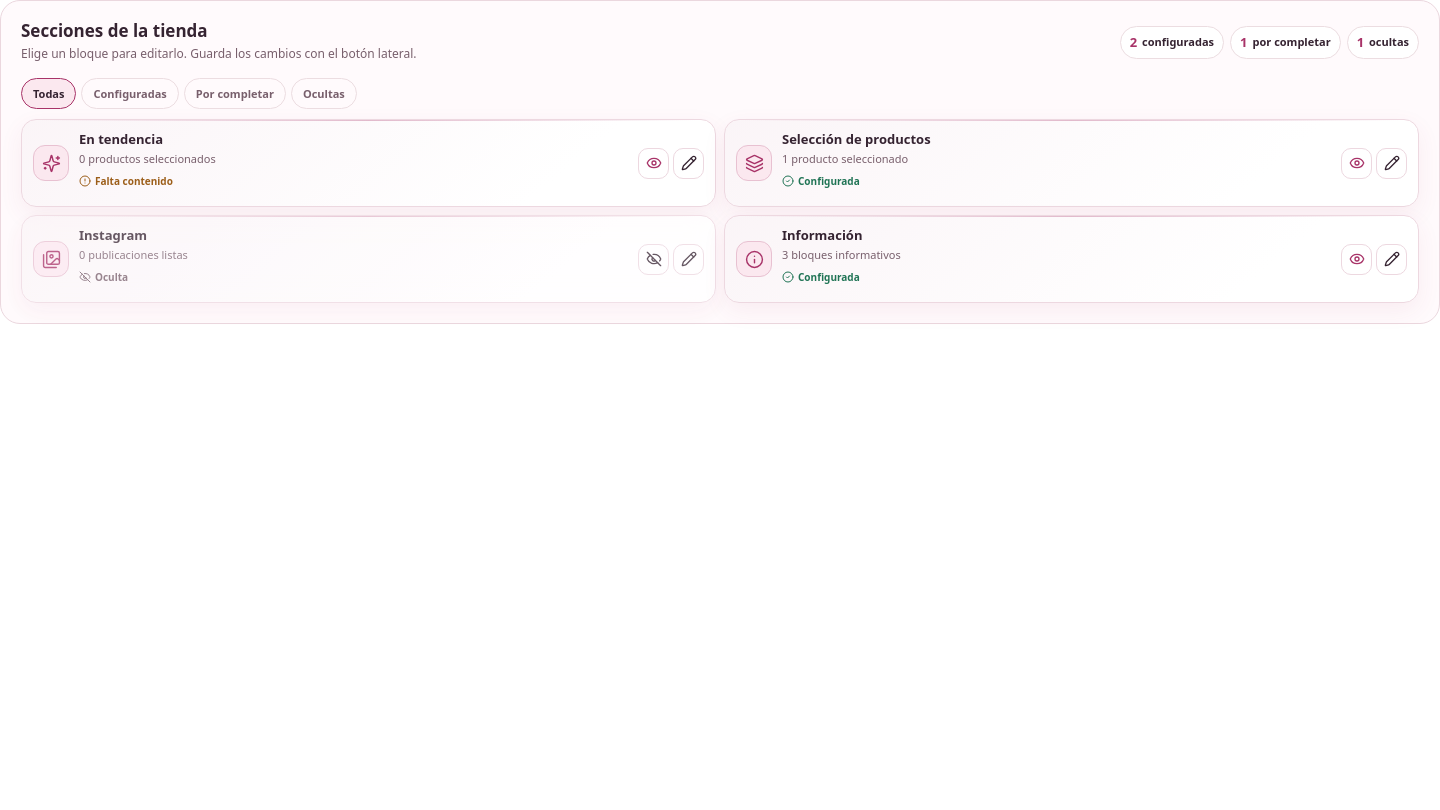
Test: vista general de Secciones › filtra la lista sin alterar las secciones y conserva un acceso claro al editor
Expected: the element named "Resumen de secciones" shows "2 configuradas", x1=1120 y1=26 x2=1419 y2=59
Expected: the element named "Resumen de secciones" shows "1 por completar", x1=1120 y1=26 x2=1419 y2=59
Click the button "Por completar" at x=235, y=93, box x1=184 y1=78 x2=286 y2=109
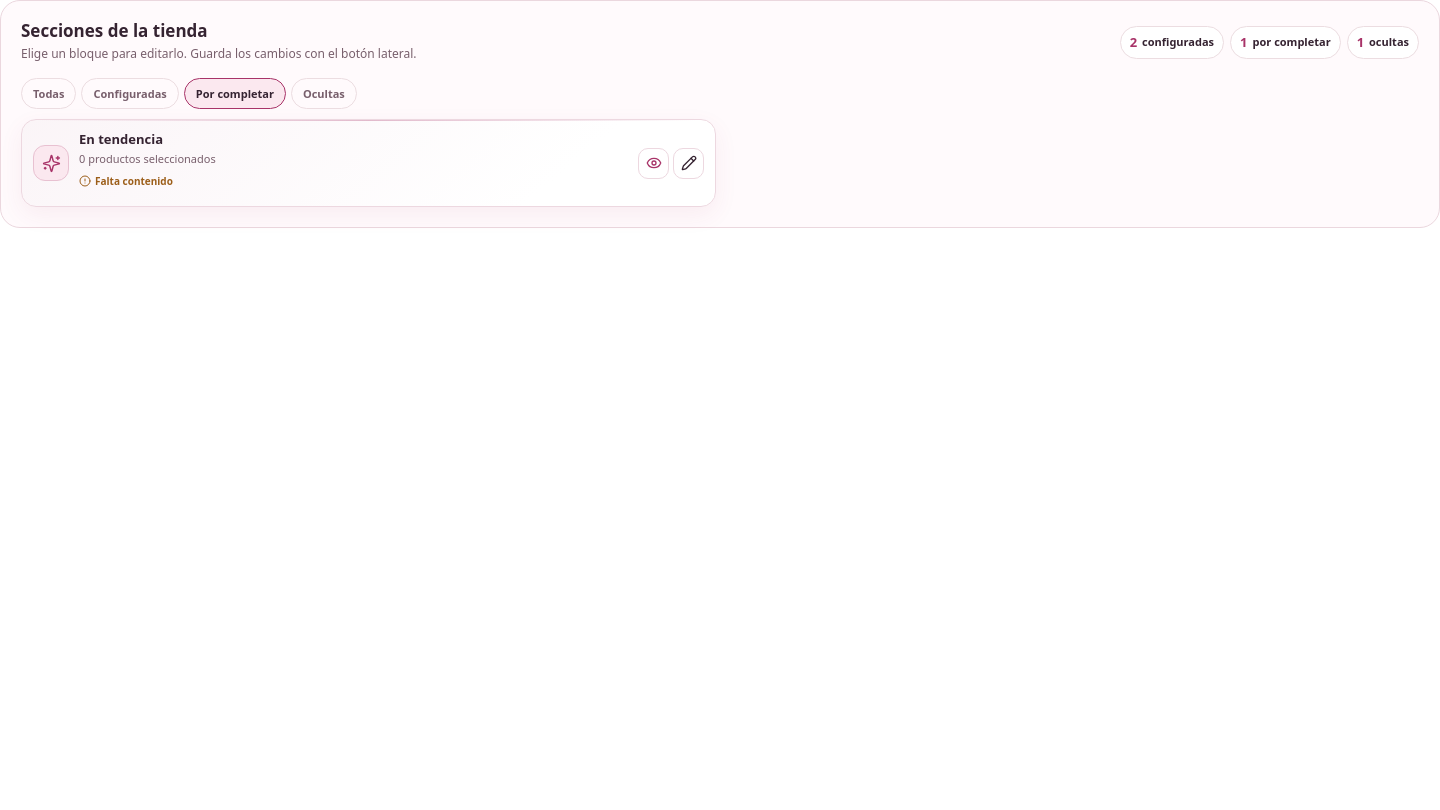
Expected: the heading "En tendencia" is shown, x1=79 y1=130 x2=163 y2=148
Click the button named "Editar En tendencia" at x=688, y=163, box x1=673 y1=148 x2=704 y2=179
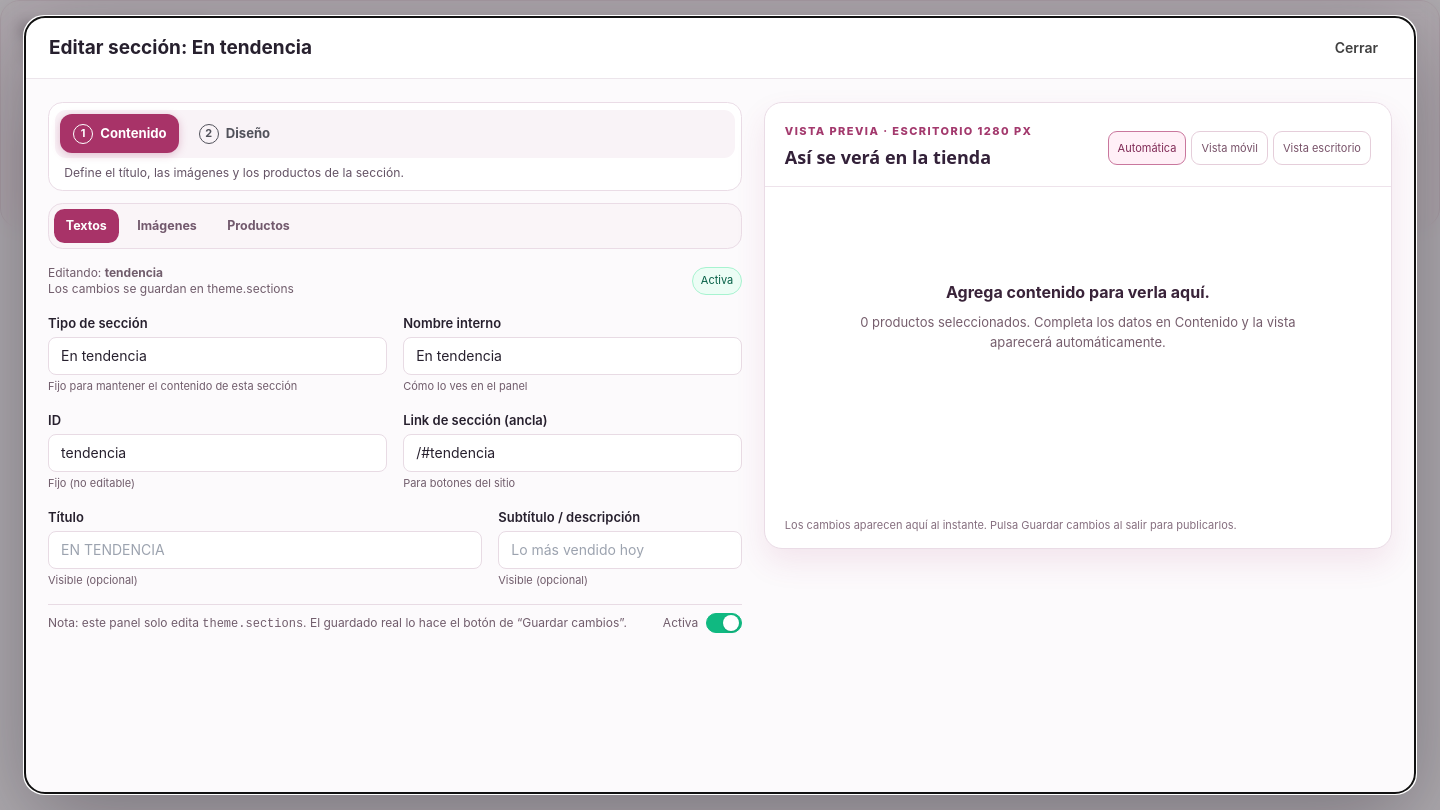
Now the field with placeholder "Ej: En tendencia" below "Nombre interno" is shown, box x1=403 y1=337 x2=742 y2=375
